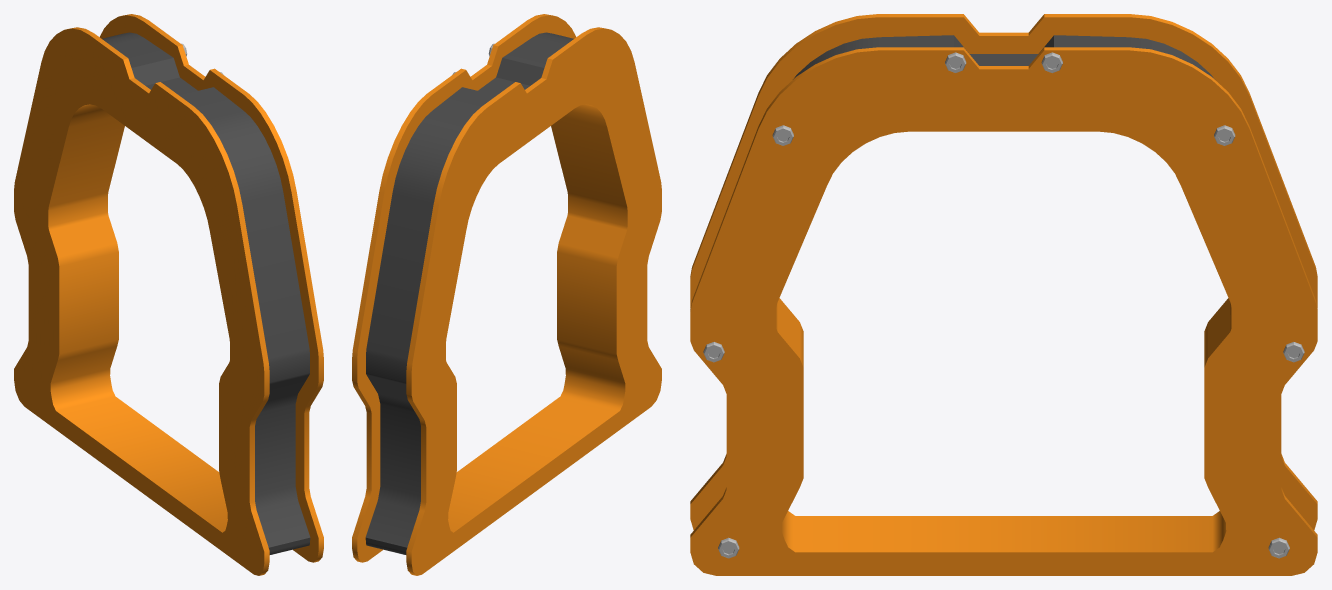
Rendered from FrameDoor01.fbx.
3 views of the same model, side by side, from view 1: azimuth 30°, elevation 25°; view 2: azimuth 150°, elevation 25°; view 3: azimuth 270°, elevation 25° (orthographic). The views are drawn at different scales.
Visible parts, largest first — view 1: SM_FrameDoor01; view 2: SM_FrameDoor01; view 3: SM_FrameDoor01.
Part boxes in pixels (box(x1,y1,x2,y2)): SM_FrameDoor01: box(14, 14, 323, 575); SM_FrameDoor01: box(352, 14, 661, 575); SM_FrameDoor01: box(690, 14, 1317, 575).
Size of the model in its own units: 53.04 by 335 by 362.
